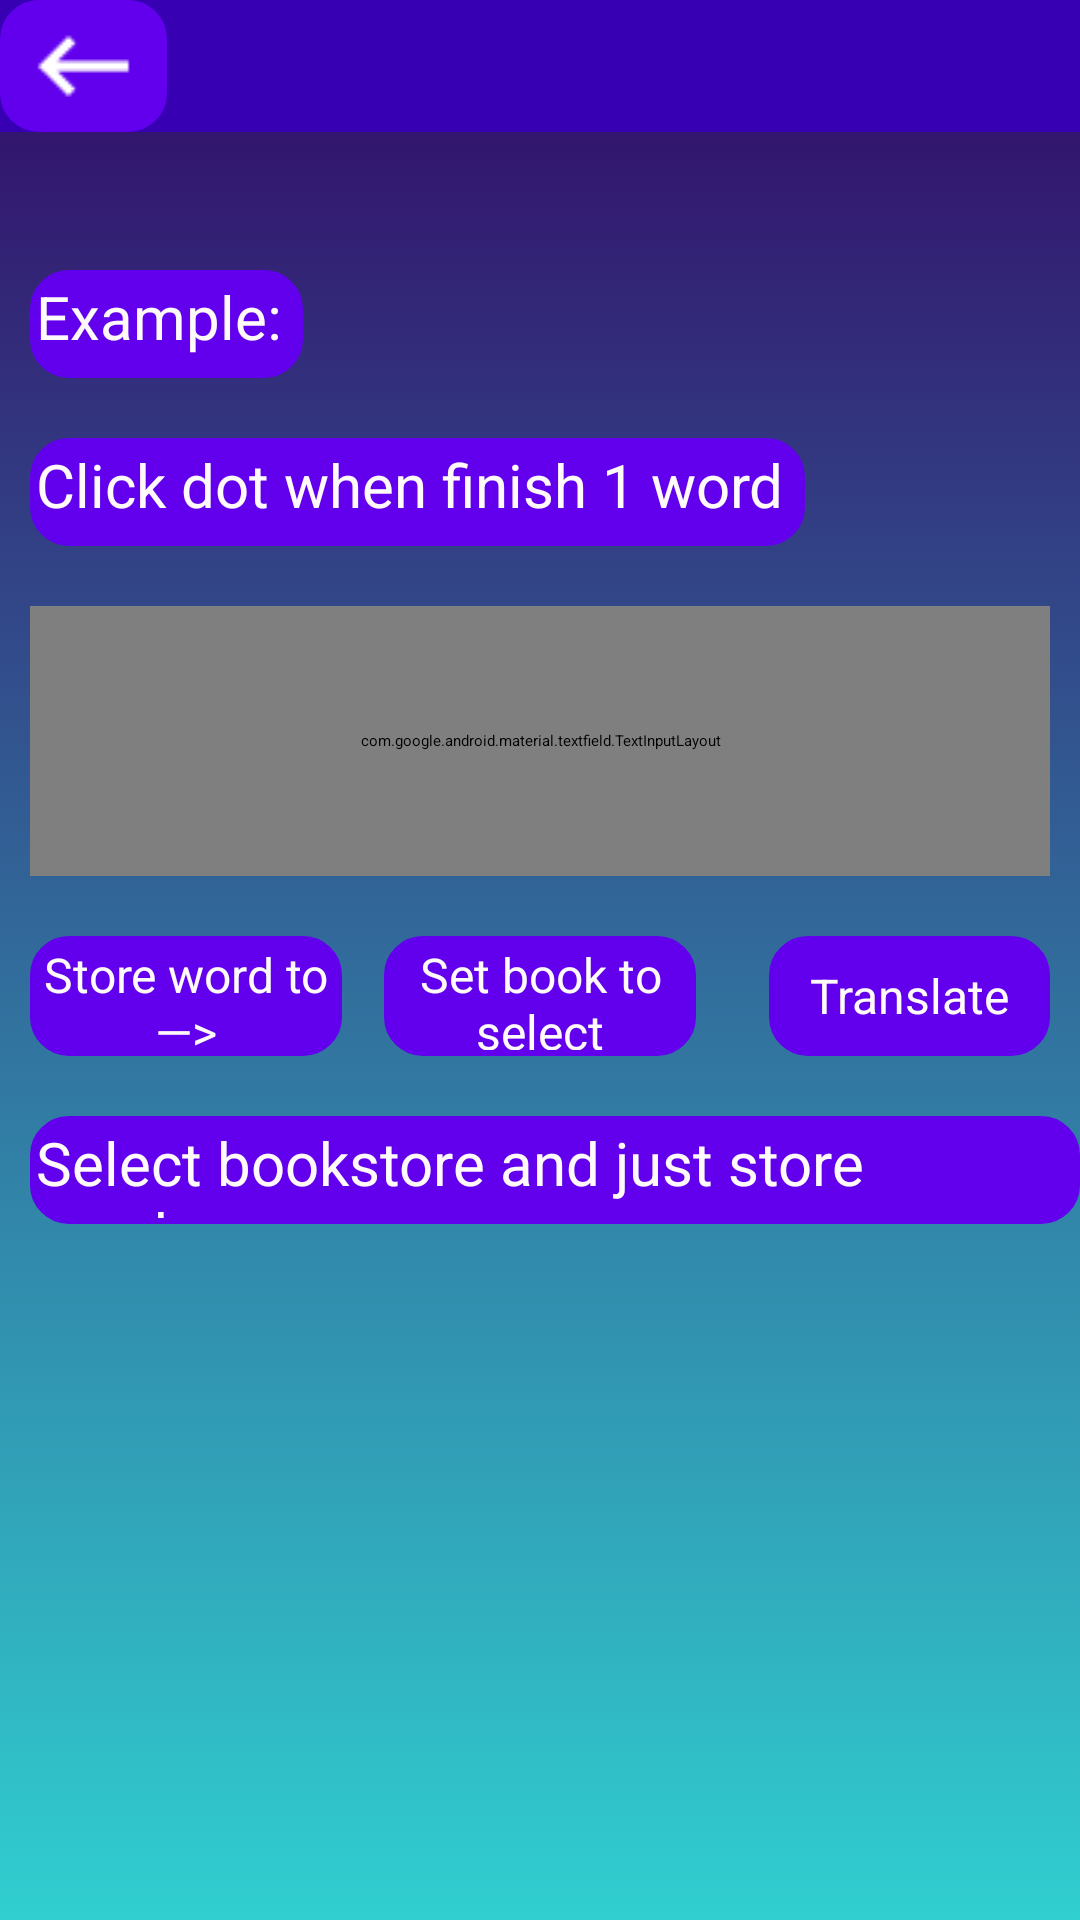

Where to tap for icons on this 1080px x 1920px app screen, as point (x, y):
back: point (83, 66)
